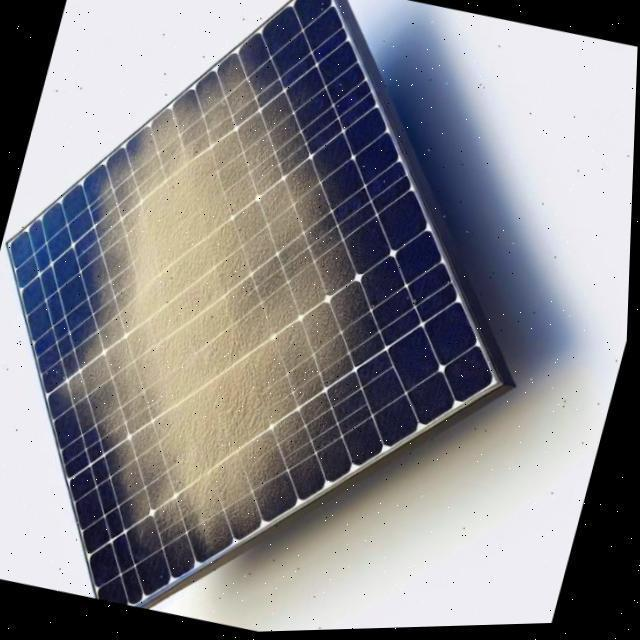Anomaly Solar Panel: (0, 0, 535, 606)
Surface Contaminant: (0, 38, 455, 584)
